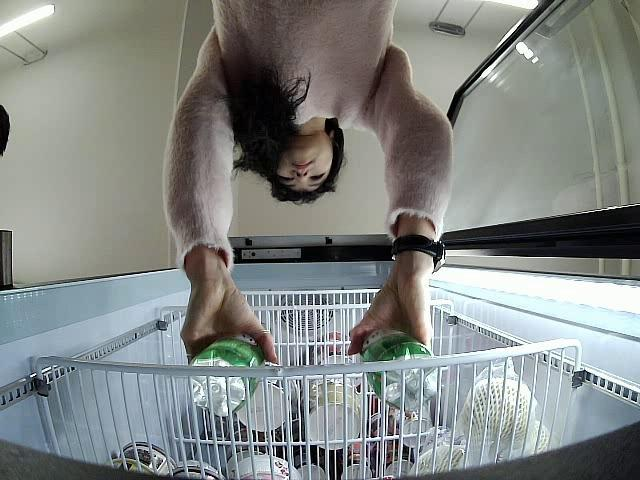18_trevi: (190, 334, 270, 414), (364, 327, 437, 412)
